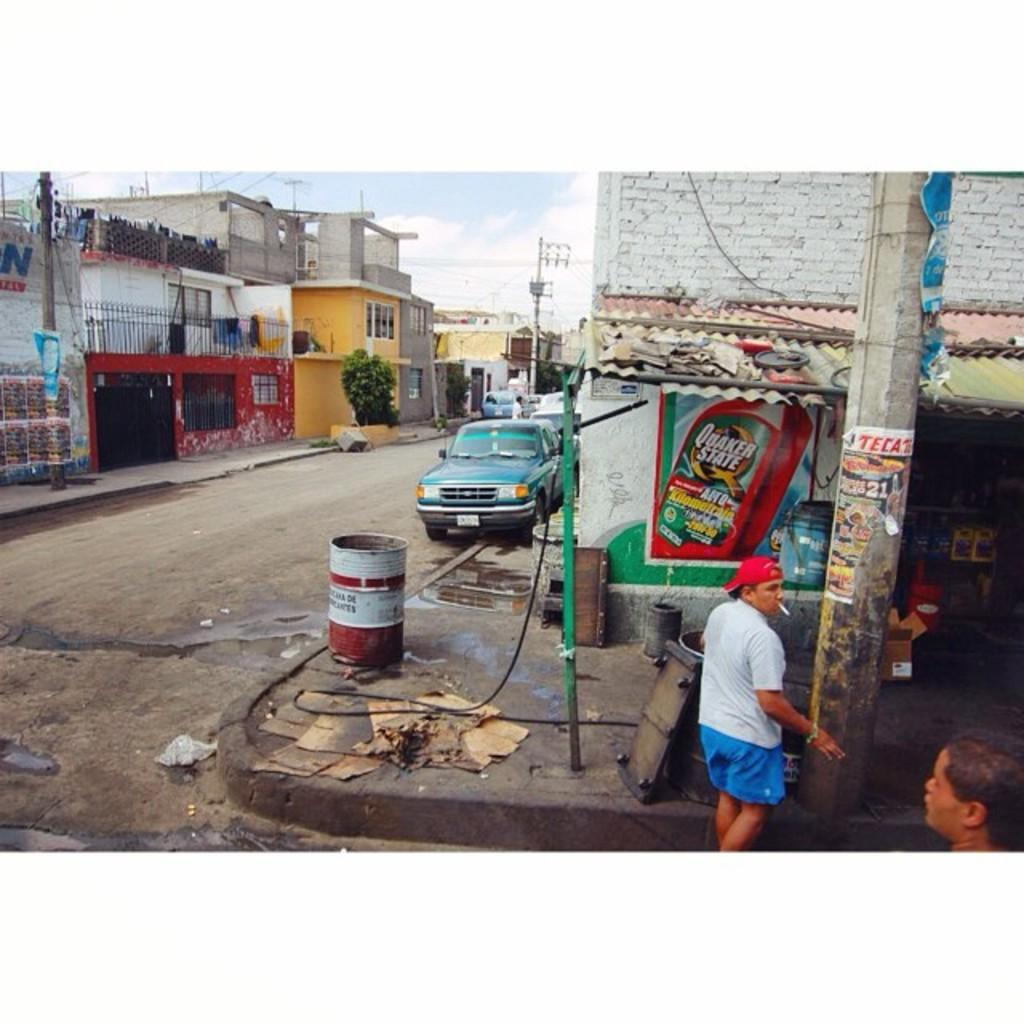Sem Máscara: (921, 748, 966, 824), (758, 581, 782, 611)
